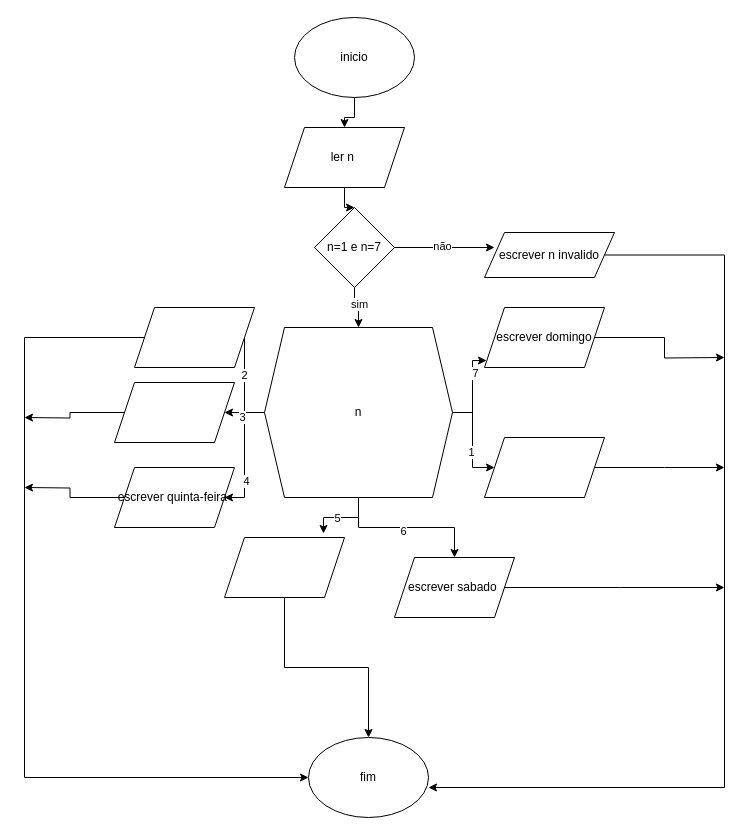
This 750x835 diagram has some shape labels left out. The box of each missing label's shape, as (x1, y1, x2, y2) in pixels:
escrever quarta-feira: (114, 382, 234, 442)
escrever segunda-feira: (484, 436, 604, 498)
escrever sexta-feira: (224, 536, 344, 598)
escrever terça-feira: (134, 306, 254, 368)
